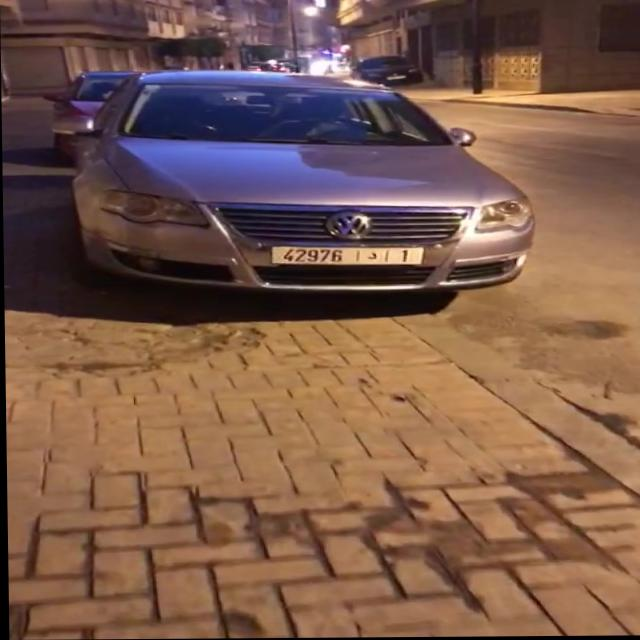License-Plate: (270, 248, 421, 265)
